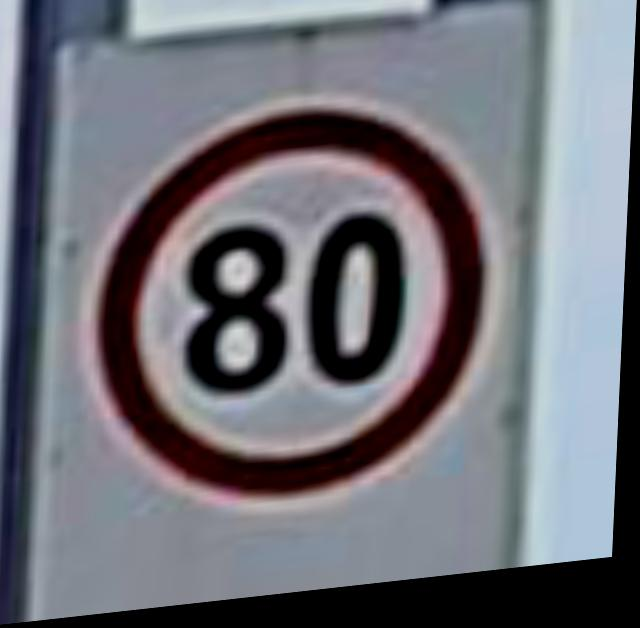limit80: (92, 91, 509, 533)
